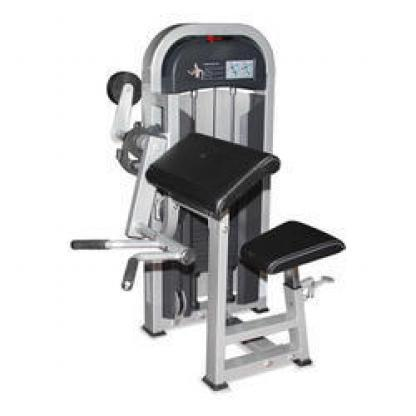arm curl machine: (71, 21, 350, 391)
